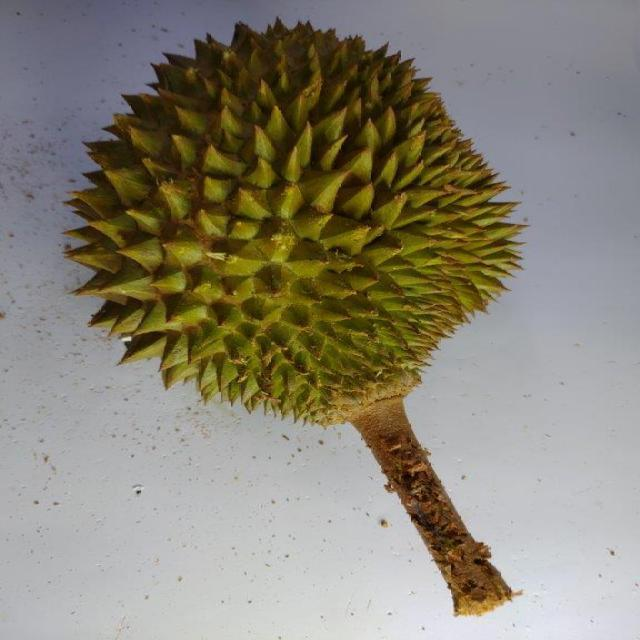mature: (62, 17, 526, 425)
